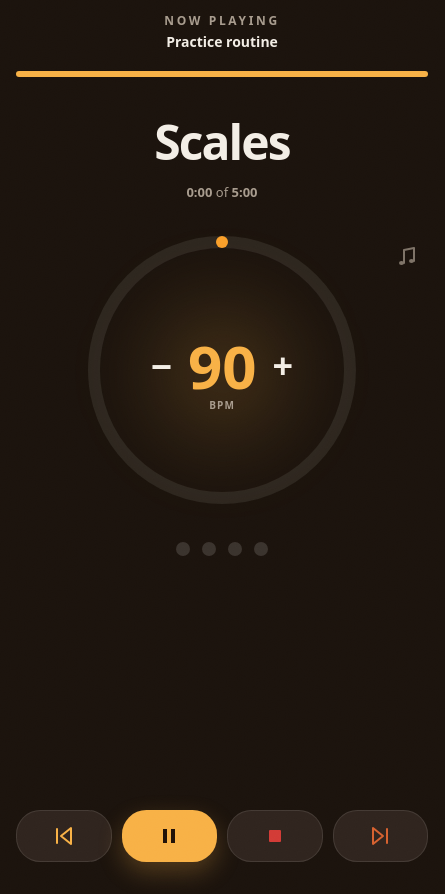
Scenario: SessionPlayer › keeps a short pointer press to one BPM change in either direction
Press the mouse on the button named "Increase tempo" at (283, 366), box [260,336,305,396]
Click the button named "Increase tempo" at (283, 366), box [260,336,305,396]
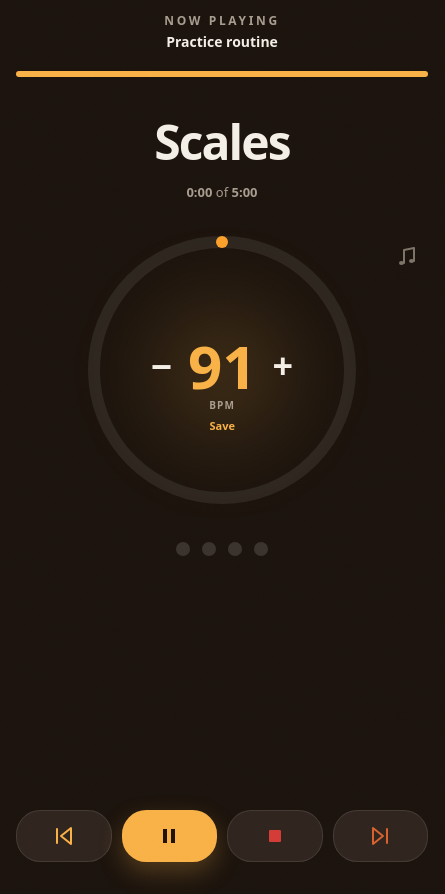
Expected: the text "91" is shown, [188,325,256,407]
Click the button named "Decrease tempo" at (161, 366), box [139,336,184,396]
Wait 999 ms
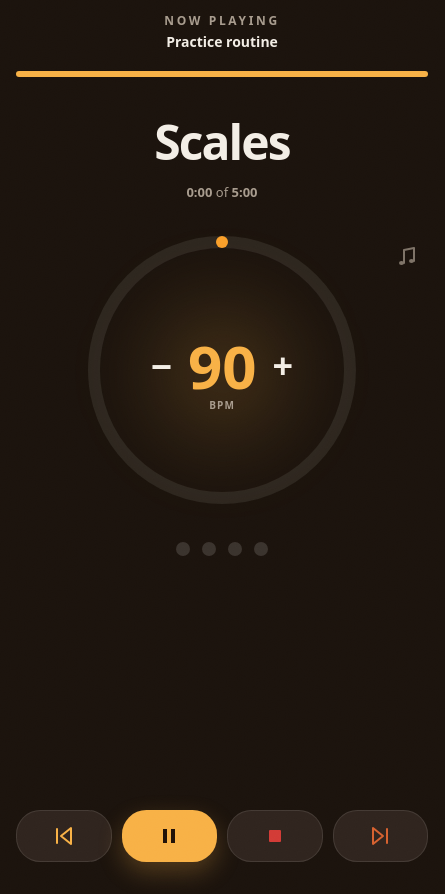
Expected: the text "90" is shown, [188,325,256,407]
